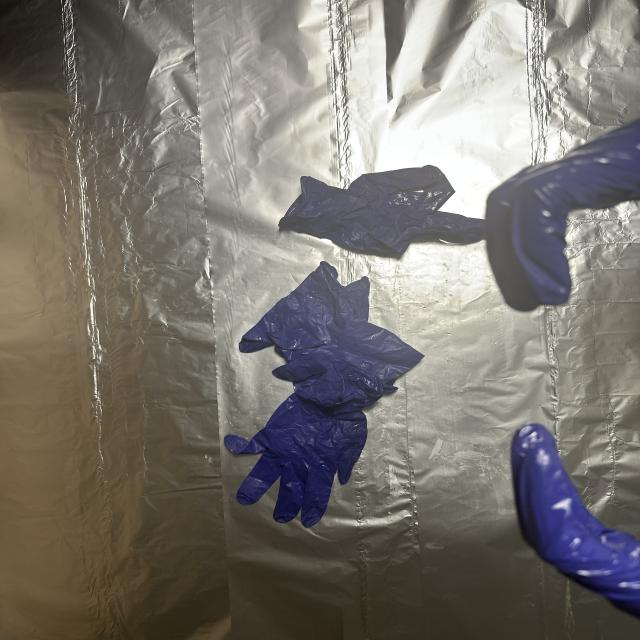gloves_contaminated: (486, 122, 640, 310), (512, 425, 640, 617)
